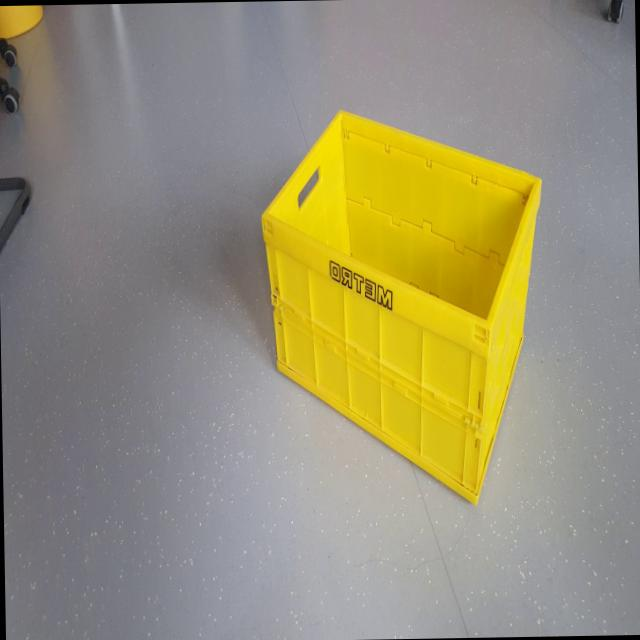box: (256, 97, 573, 510)
